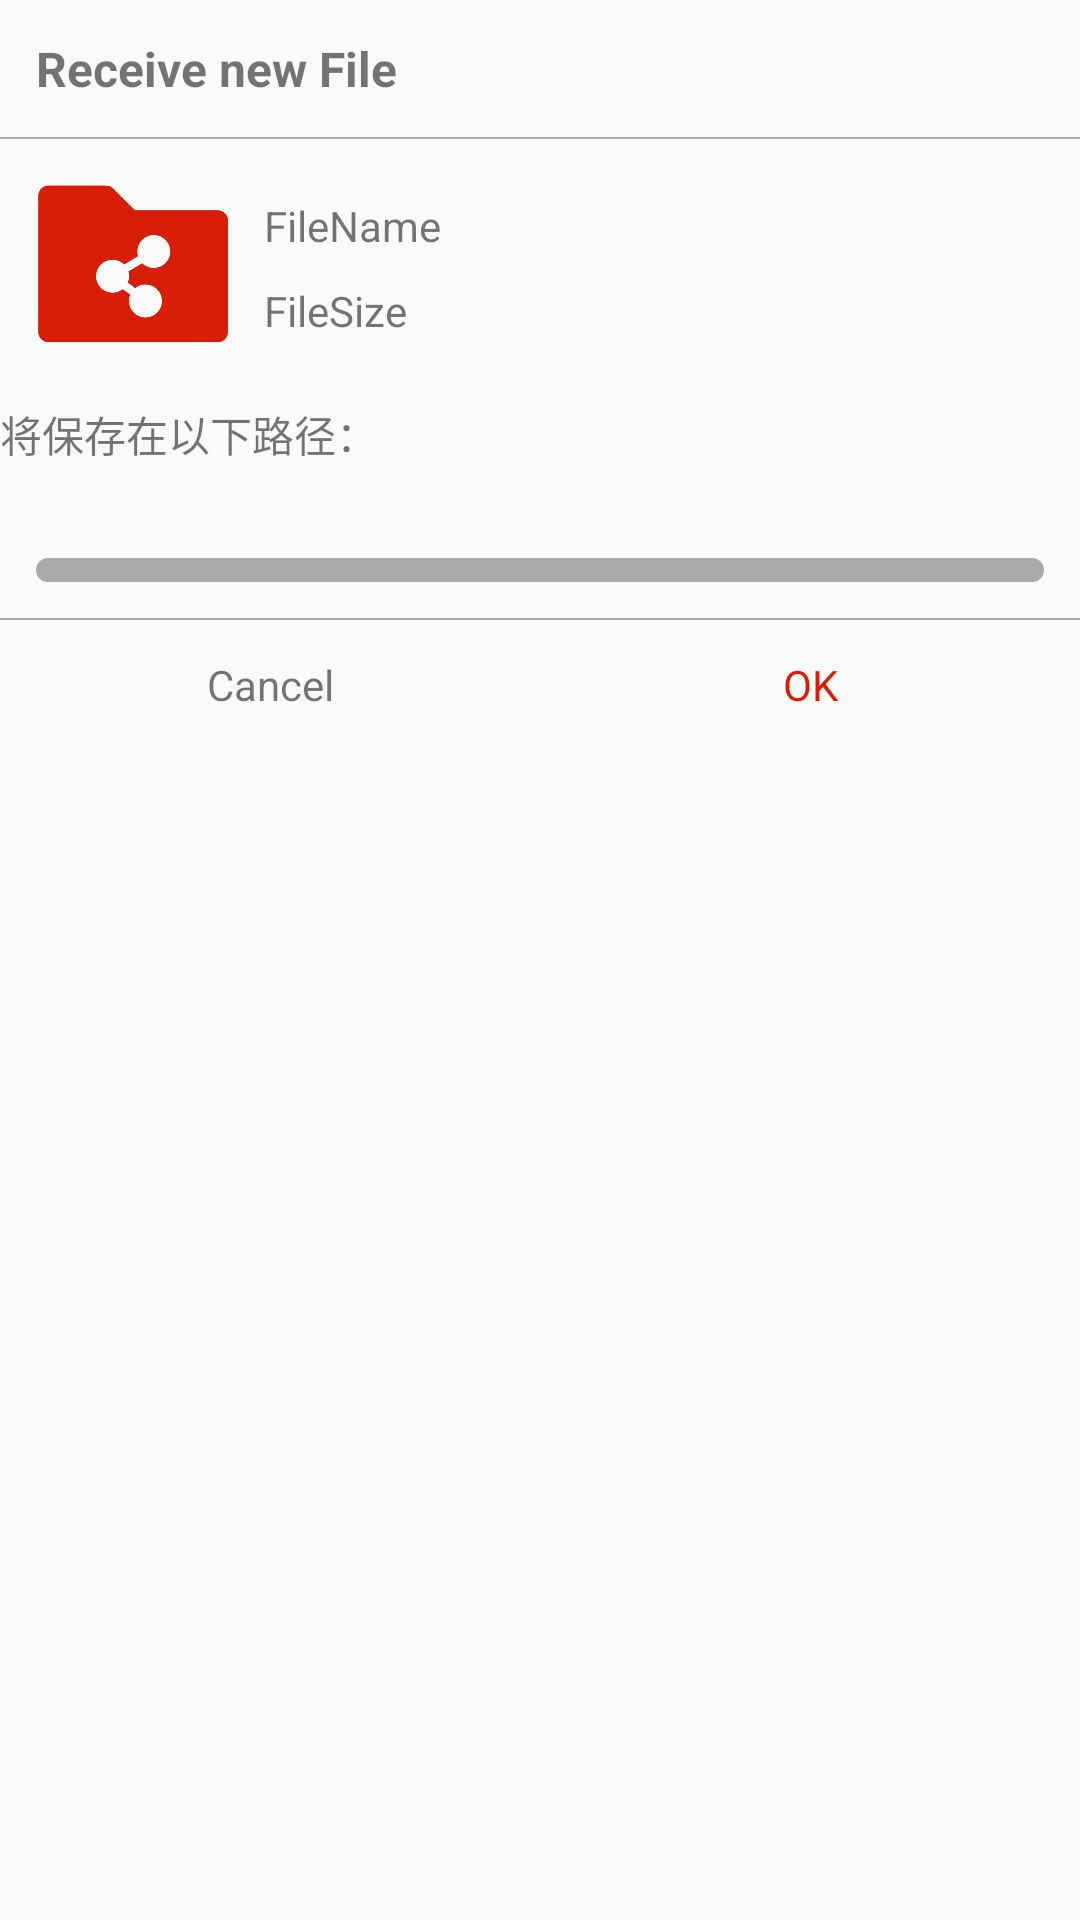

Where to tap for icons on this 1080×1920 app screen, as point (x, y):
share: point (133, 263)
